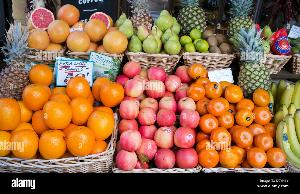apple: (122, 59, 198, 175)
lime: (181, 22, 209, 54)
orange: (0, 63, 124, 163)
pear: (117, 9, 181, 57)
persimmon: (194, 57, 290, 174)
